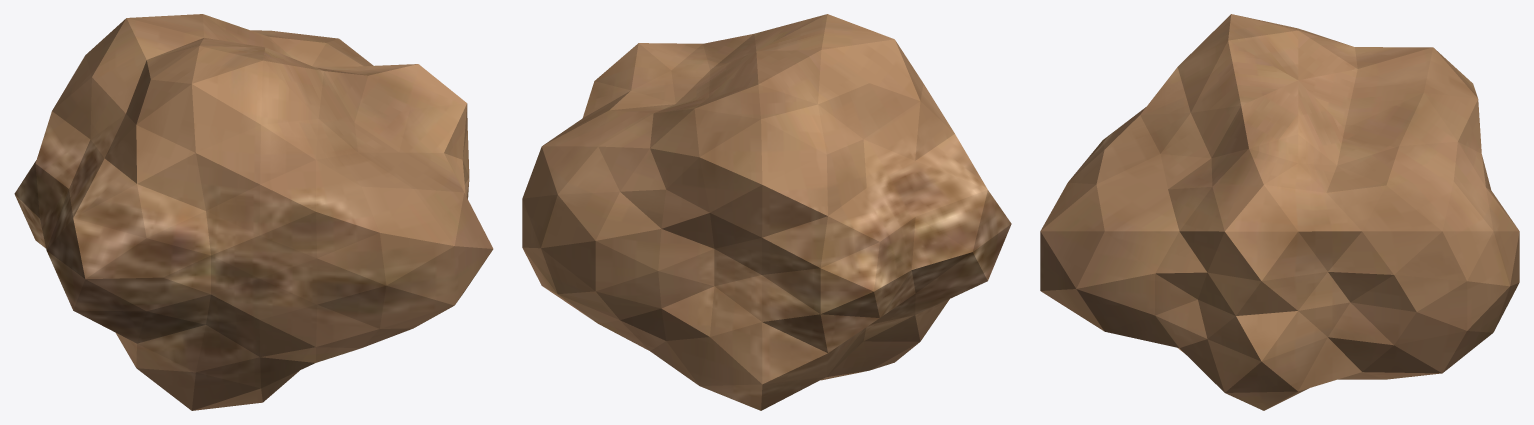
Rendered from asteroid.glb.
3 renders of one model, left to right at view 1: azimuth 30°, elevation 25°; view 2: azimuth 150°, elevation 25°; view 3: azimuth 270°, elevation 25°, orthographic.
Visible parts, largest first — view 1: Asteroid; view 2: Asteroid; view 3: Asteroid.
Boxes of the visible parts, bbox=[...] form: Asteroid: bbox=[14, 14, 493, 410]; Asteroid: bbox=[522, 14, 1011, 410]; Asteroid: bbox=[1040, 14, 1519, 410].
Bounding box in the file's own units: 0.2537 × 0.2056 × 0.2594.
Materials: 1 (1 with a texture image).
